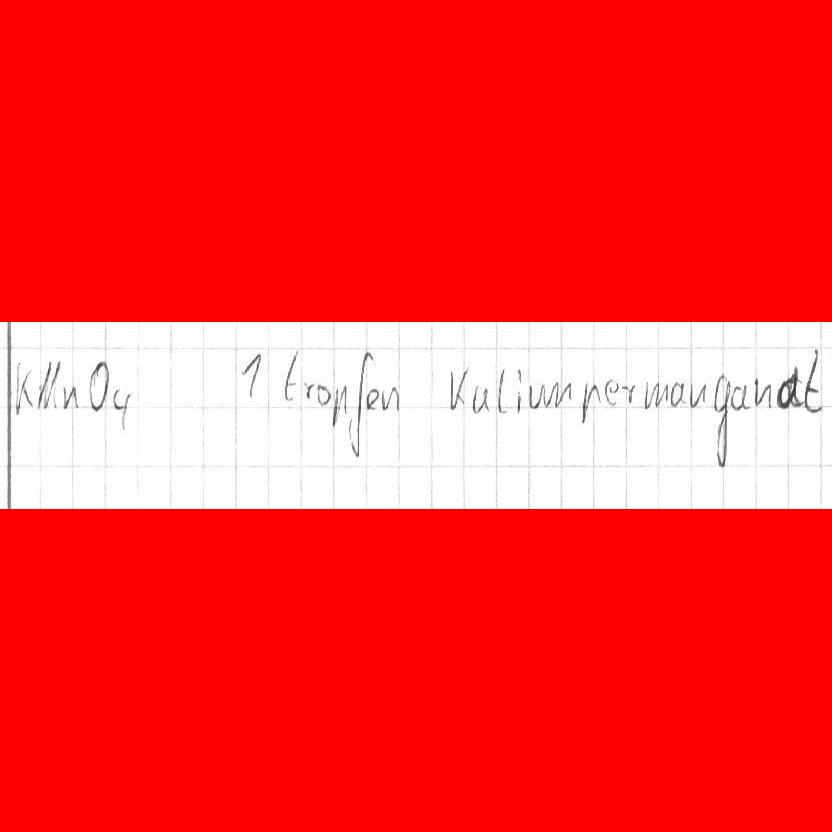Char: (349, 350, 368, 458), (713, 369, 729, 473), (802, 348, 821, 412), (240, 350, 262, 401), (89, 360, 109, 412), (447, 366, 468, 414), (580, 377, 600, 427), (778, 366, 800, 410), (281, 349, 299, 402), (112, 385, 132, 431), (37, 359, 54, 410), (330, 382, 347, 427), (549, 378, 572, 410), (17, 365, 32, 412), (752, 375, 773, 408), (643, 378, 664, 411), (58, 382, 79, 410), (687, 380, 707, 409), (494, 369, 507, 413), (513, 368, 525, 414), (730, 381, 748, 411), (381, 384, 400, 412), (668, 379, 685, 409), (527, 381, 544, 411), (472, 386, 489, 415), (620, 380, 637, 405), (605, 376, 619, 405), (316, 380, 330, 406), (301, 378, 314, 404), (365, 387, 379, 411)
